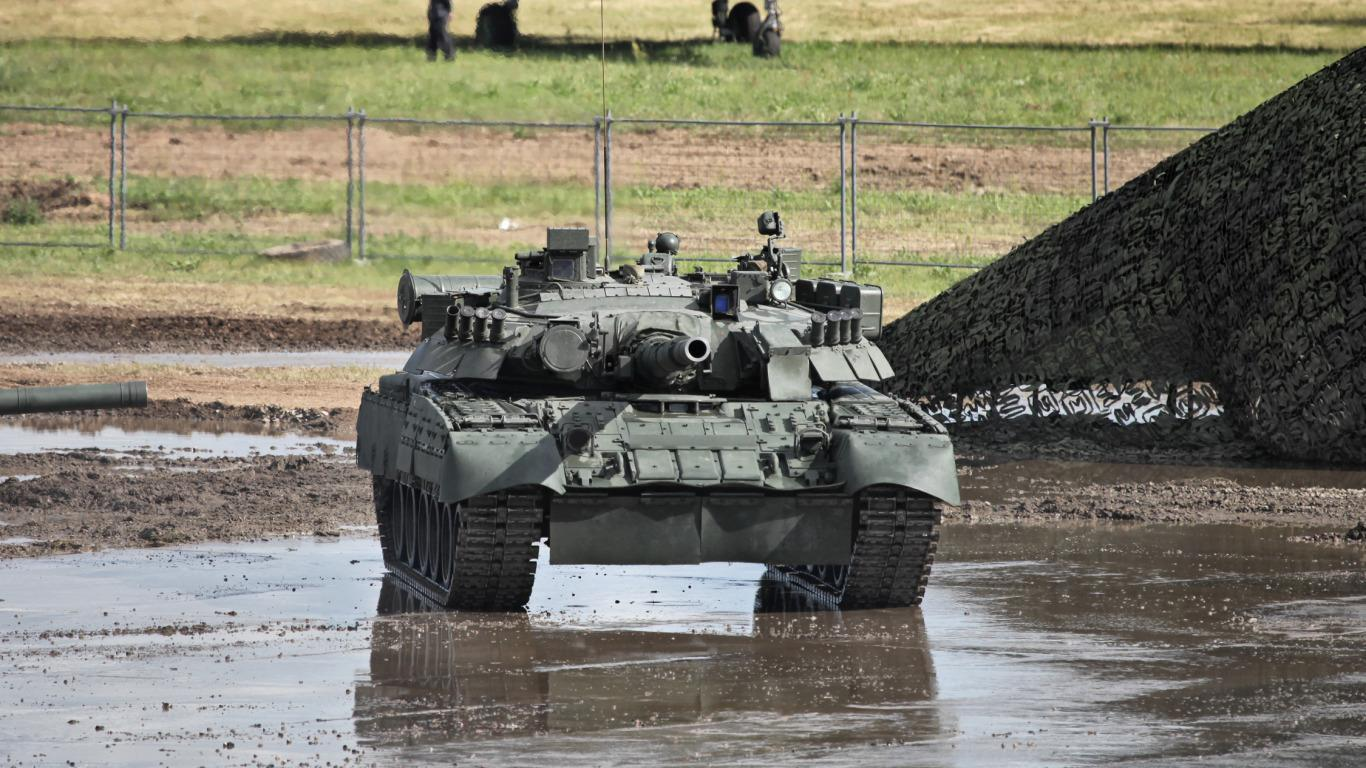tank: (355, 207, 966, 617)
